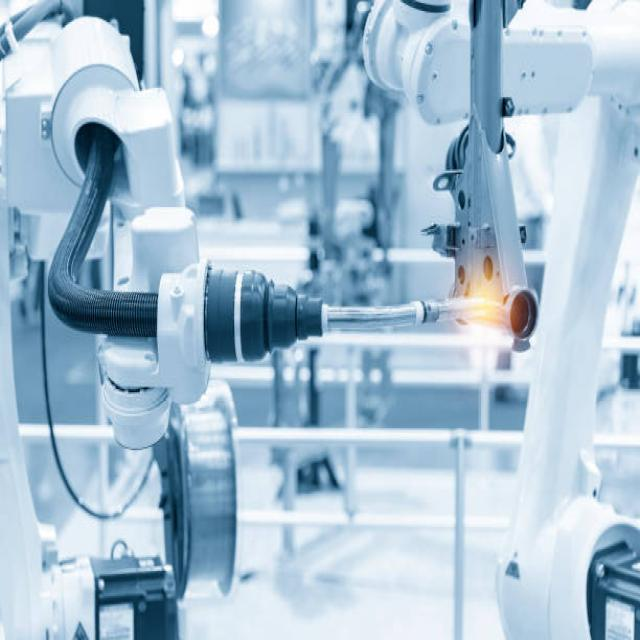Robotic-arm: (352, 0, 640, 640), (2, 0, 246, 640)
